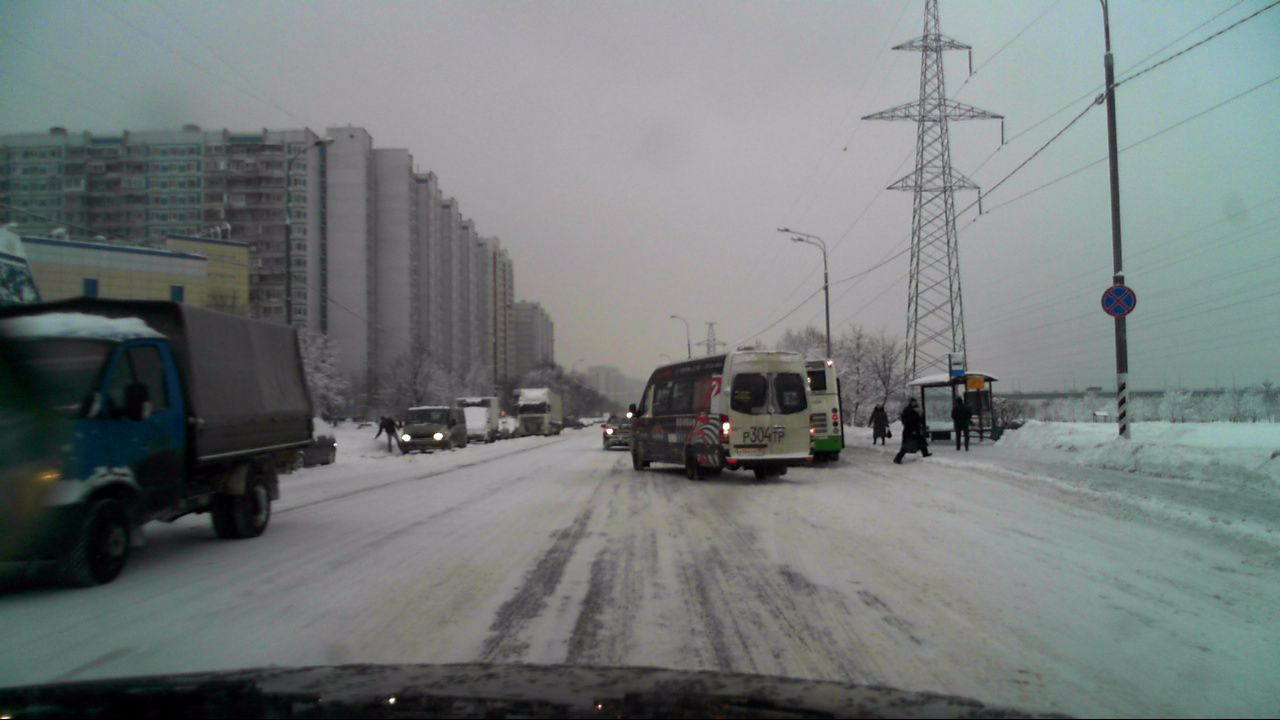No Parking: (1099, 281, 1140, 321)
